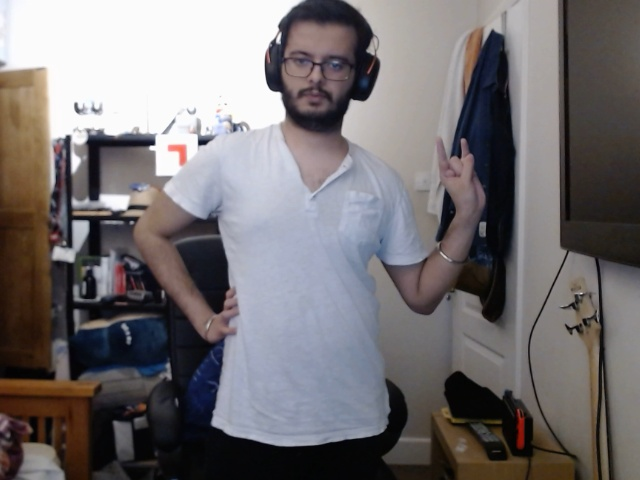Rock on: (424, 133, 496, 225)
